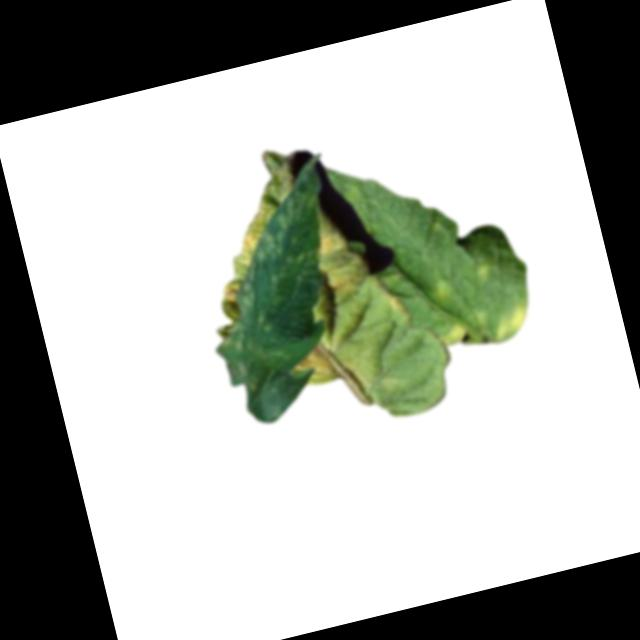Leaf_Mold: (197, 190, 300, 326), (309, 211, 373, 306), (285, 334, 347, 389), (373, 270, 415, 328), (486, 297, 532, 343), (435, 315, 473, 348), (422, 272, 457, 303)
